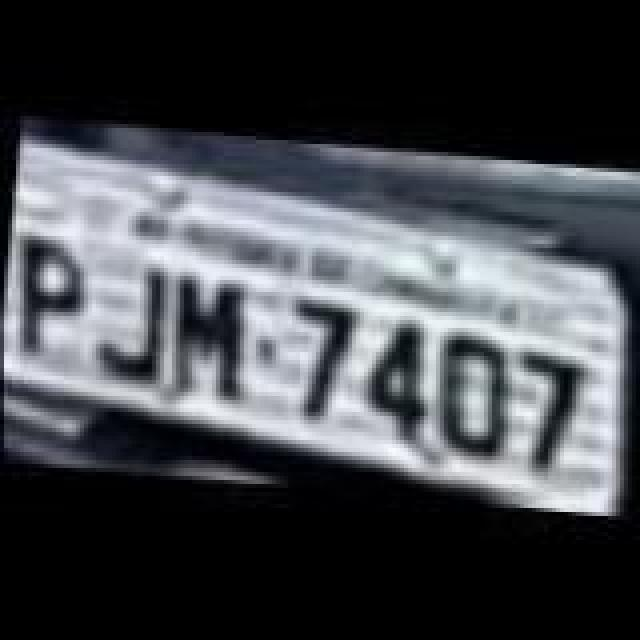4: (352, 312, 436, 448)
7: (272, 296, 356, 432), (496, 350, 580, 478)
J: (86, 250, 174, 386)
M: (162, 274, 250, 402)
O: (428, 326, 512, 462)
P: (8, 228, 92, 364)
